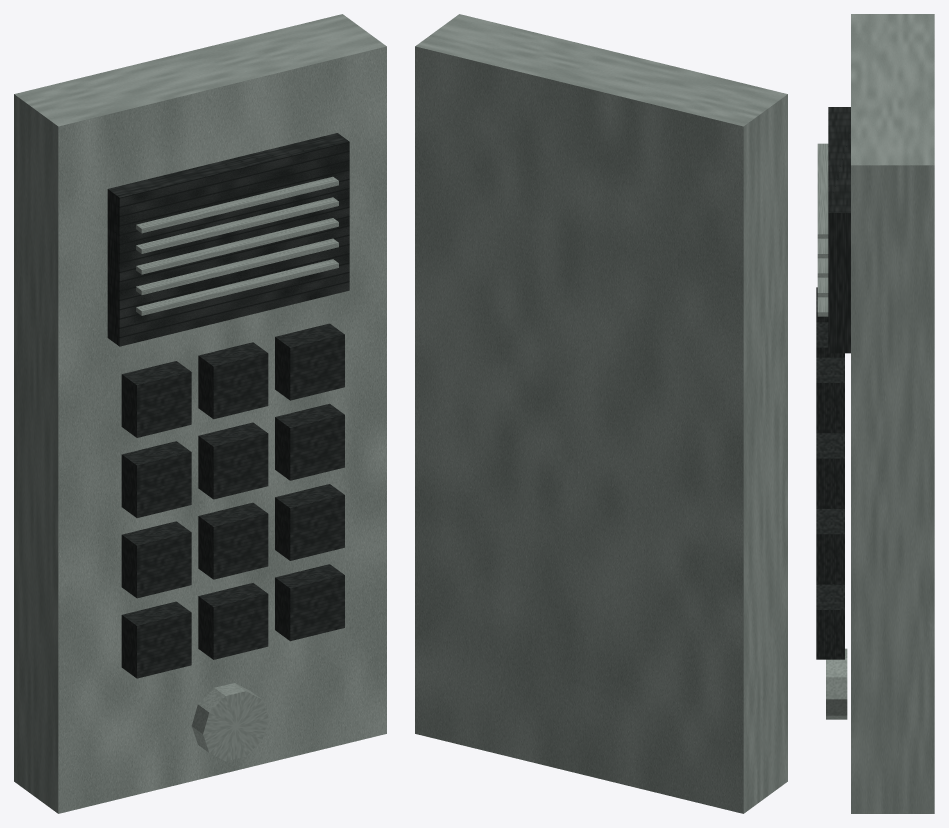
Rendered from CIS_Intercom.glb.
The picture shows the model from 3 angles, left to right: view 1: azimuth 30°, elevation 25°; view 2: azimuth 150°, elevation 25°; view 3: azimuth 270°, elevation 25°; orthographic projection. The views are drawn at different scales.
Visible parts, largest first — view 1: CIS_Intercom; view 2: CIS_Intercom; view 3: CIS_Intercom.
Part boxes in pixels (left/top/right/bottom): CIS_Intercom: left=14, top=14, right=386, bottom=813; CIS_Intercom: left=415, top=14, right=787, bottom=813; CIS_Intercom: left=816, top=14, right=934, bottom=813.
Size of the model in its own units: 0.15 by 0.3 by 0.0495.
2 materials, 2 textured.
